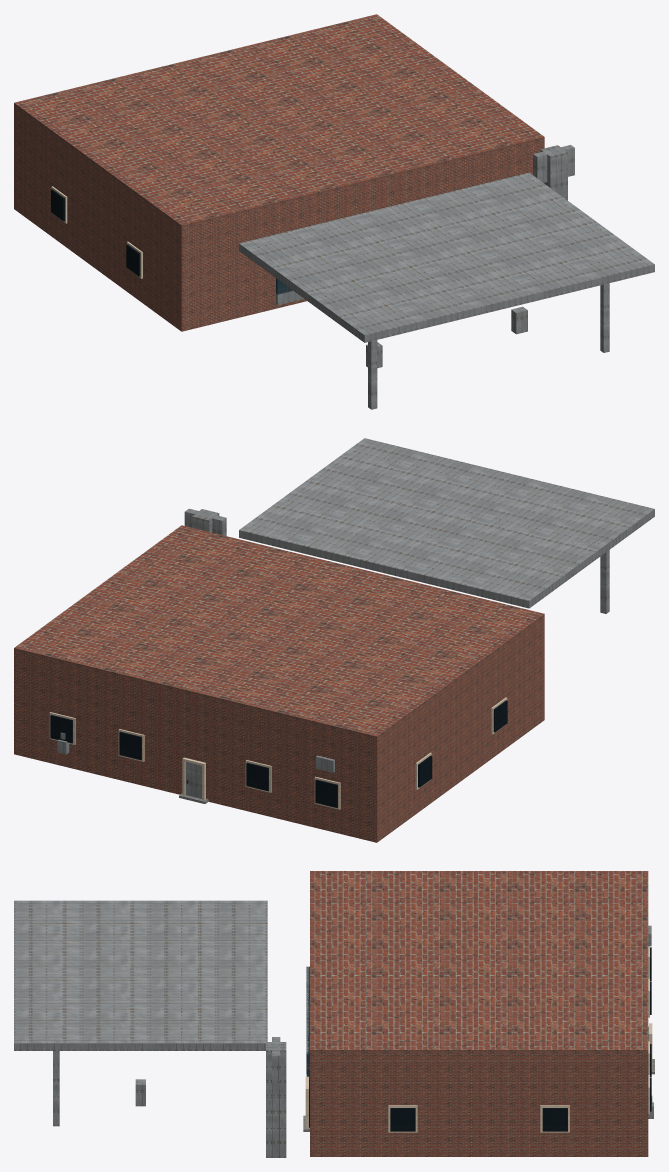
File: gas-station_lod0.gltf
3 renders of one model, top to bottom at view 1: azimuth 30°, elevation 25°; view 2: azimuth 150°, elevation 25°; view 3: azimuth 270°, elevation 25°, orthographic.
Parts seen in each view (by area): view 1: gas-station_main, gas-station__canopy, gas-station__pylon, gas-station_fen_07-glass-curtain-blue_3_t, gas-station__canopy_post_a, gas-station__canopy_post_b, gas-station__pylon_cabinet; view 2: gas-station_main, gas-station__canopy, gas-station_fen_07-glass-curtain-blue_3_t, gas-station_fen_04-limestone_2, gas-station_fen_14-steel-panel_0, gas-station__canopy_post_a; view 3: gas-station_main, gas-station__canopy, gas-station__pylon, gas-station_fen_07-glass-curtain-blue_3_t, gas-station_fen_04-limestone_2, gas-station__canopy_post_b, gas-station_fen_14-steel-panel_0.
Part boxes in pixels (x1,y1,x2,y2): gas-station_main: [14, 14, 544, 331]; gas-station__canopy: [239, 172, 654, 342]; gas-station__pylon: [540, 145, 567, 200]; gas-station_fen_07-glass-curtain-blue_3_t: [51, 189, 140, 276]; gas-station__canopy_post_a: [368, 340, 377, 409]; gas-station__canopy_post_b: [600, 283, 609, 352]; gas-station__pylon_cabinet: [533, 145, 574, 182]; gas-station_main: [14, 525, 544, 842]; gas-station__canopy: [239, 438, 654, 608]; gas-station_fen_07-glass-curtain-blue_3_t: [50, 700, 507, 807]; gas-station_fen_04-limestone_2: [49, 697, 507, 809]; gas-station_fen_14-steel-panel_0: [57, 732, 334, 798]; gas-station__canopy_post_a: [600, 550, 609, 613]; gas-station_main: [310, 871, 648, 1156]; gas-station__canopy: [14, 900, 267, 1050]; gas-station__pylon: [266, 1042, 286, 1157]; gas-station_fen_07-glass-curtain-blue_3_t: [309, 947, 651, 1131]; gas-station_fen_04-limestone_2: [305, 946, 652, 1132]; gas-station__canopy_post_b: [53, 1051, 59, 1126]; gas-station_fen_14-steel-panel_0: [306, 925, 653, 1118].
Size of the model in its own units: 26 by 7 by 37.9.
